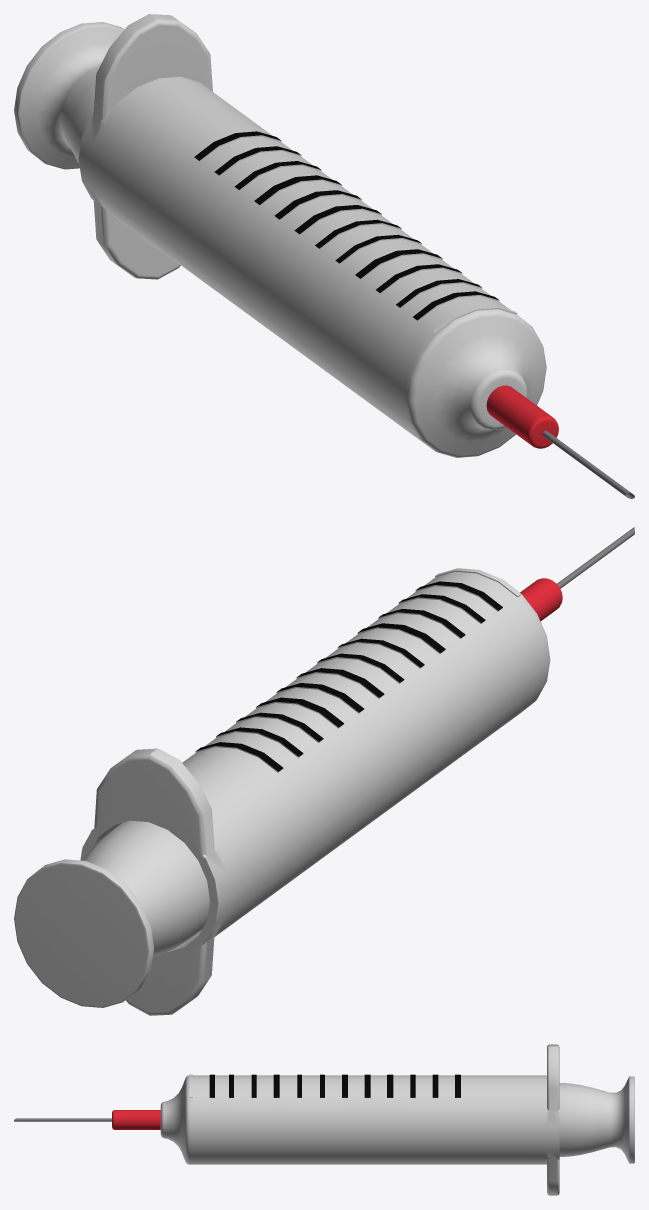
The model's file is Syringe.fbx.
3 renders of one model, top to bottom at view 1: azimuth 30°, elevation 25°; view 2: azimuth 150°, elevation 25°; view 3: azimuth 270°, elevation 25°, orthographic. The views are drawn at different scales.
Parts seen in each view (by area): view 1: pCylinder1, pCylinder2; view 2: pCylinder1, pCylinder2; view 3: pCylinder1, pCylinder2.
Boxes of the visible parts, <box> form: pCylinder1: <box>78,14,634,498</box>; pCylinder2: <box>14,22,124,169</box>; pCylinder1: <box>80,527,634,1015</box>; pCylinder2: <box>14,820,209,1007</box>; pCylinder1: <box>14,1044,559,1195</box>; pCylinder2: <box>559,1076,634,1163</box>.
Size of the model in its own units: 2 by 3.59 by 13.78.
